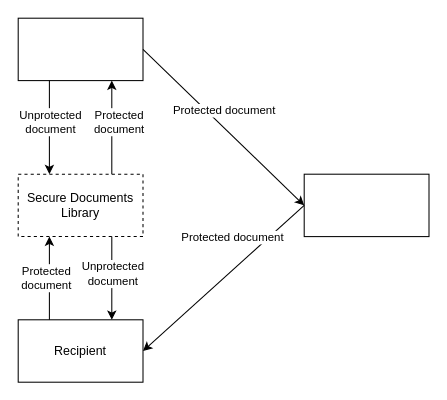
Some shapes in this 447 by 400 pixel diagram are drawn without their labels. The box of each missing label's shape, as (x1, y1, x2, y2) in pixels:
Sender: (17, 17, 143, 81)
Server: (303, 173, 429, 237)
